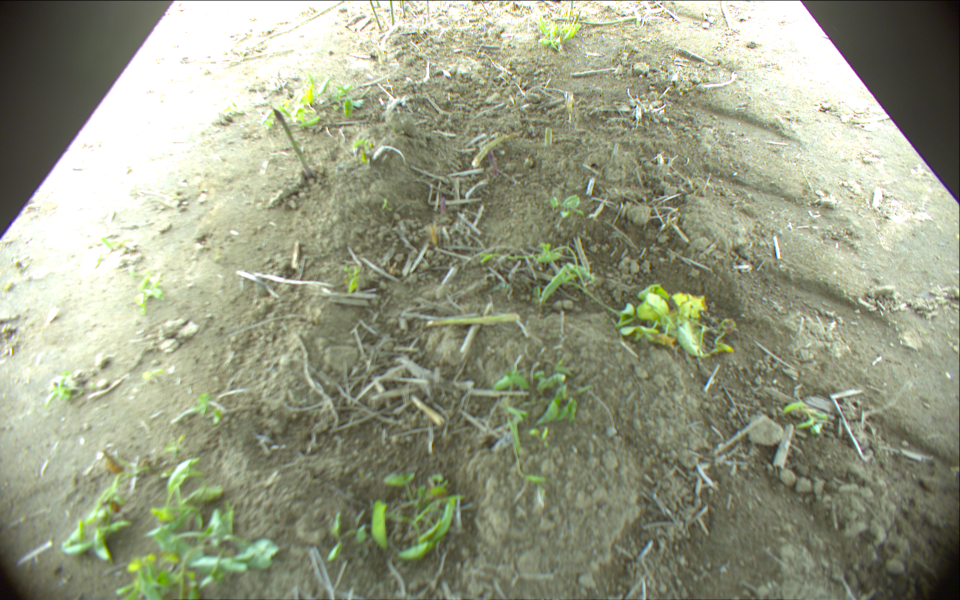aspa: (270, 108, 314, 179), (560, 17, 647, 26), (368, 1, 386, 32), (387, 1, 396, 26), (570, 1, 579, 21), (400, 1, 408, 19), (424, 1, 433, 13), (376, 1, 383, 8)
